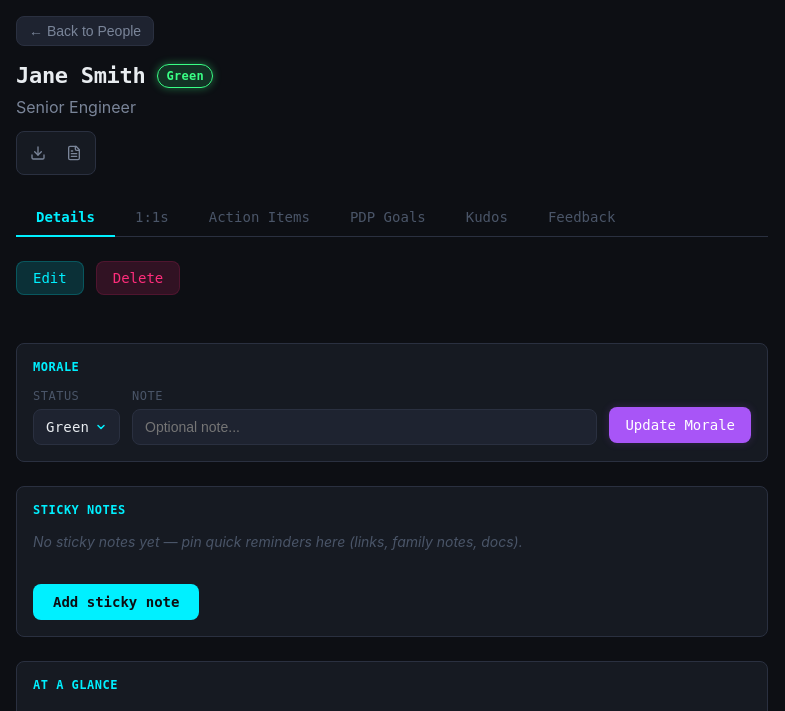
Test: PersonDetailPage - Feedback Tab › keeps other tabs working (details tab still renders)
Expected: the heading "Jane Smith" is shown, x1=16 y1=62 x2=146 y2=91
Click the tab with test id "tab-feedback" at (582, 218), box x1=528 y1=199 x2=635 y2=237
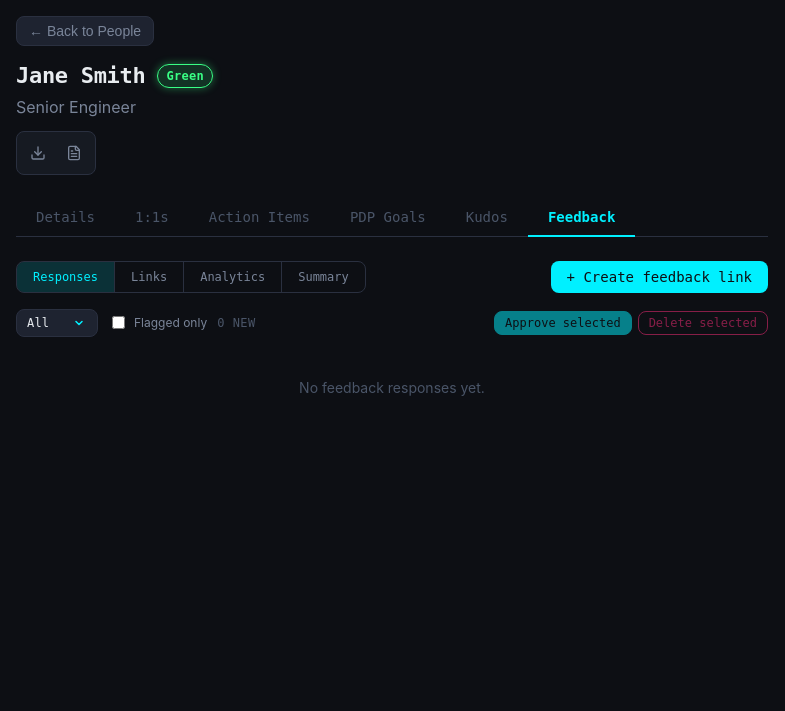
Now the element with test id "feedback-tab-panel" is shown, box x1=16 y1=261 x2=768 y2=422
Click the tab with test id "tab-details" at (66, 218), box x1=16 y1=199 x2=115 y2=237
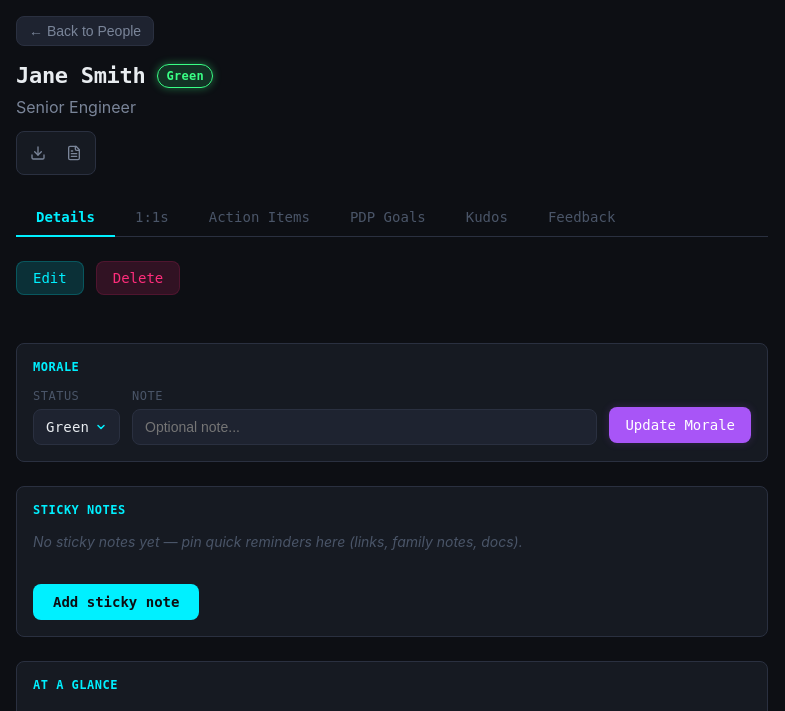
Now the button with test id "edit-button" is shown, box x1=16 y1=261 x2=84 y2=295
